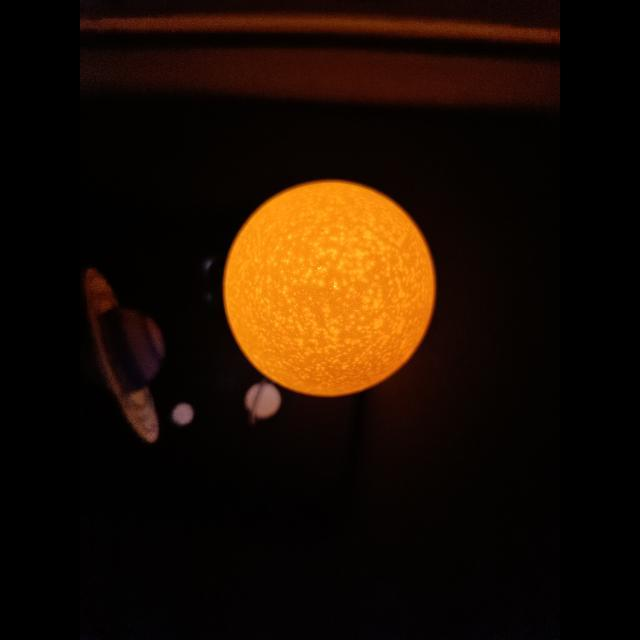AA - Premium: (224, 180, 435, 396)
